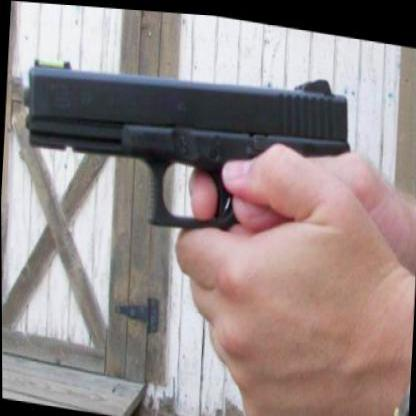pistol: (15, 27, 350, 249)
